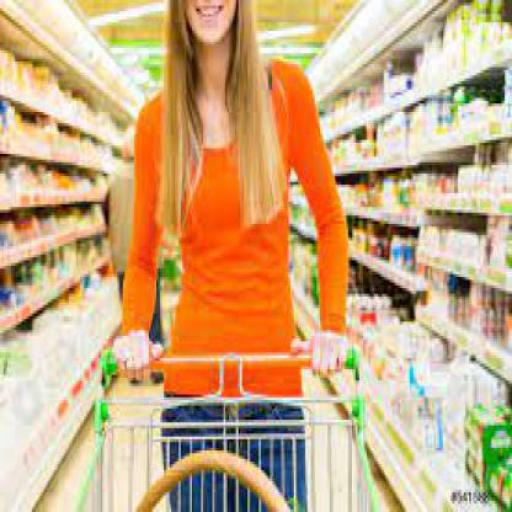shopping_cart: (66, 348, 383, 512)
